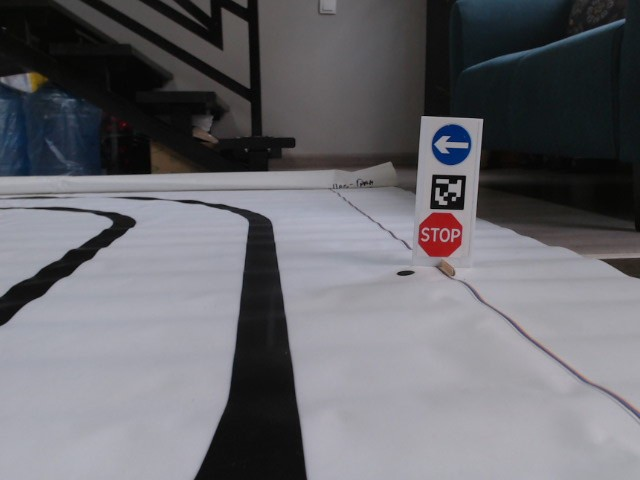Stop: (418, 210, 464, 261)
